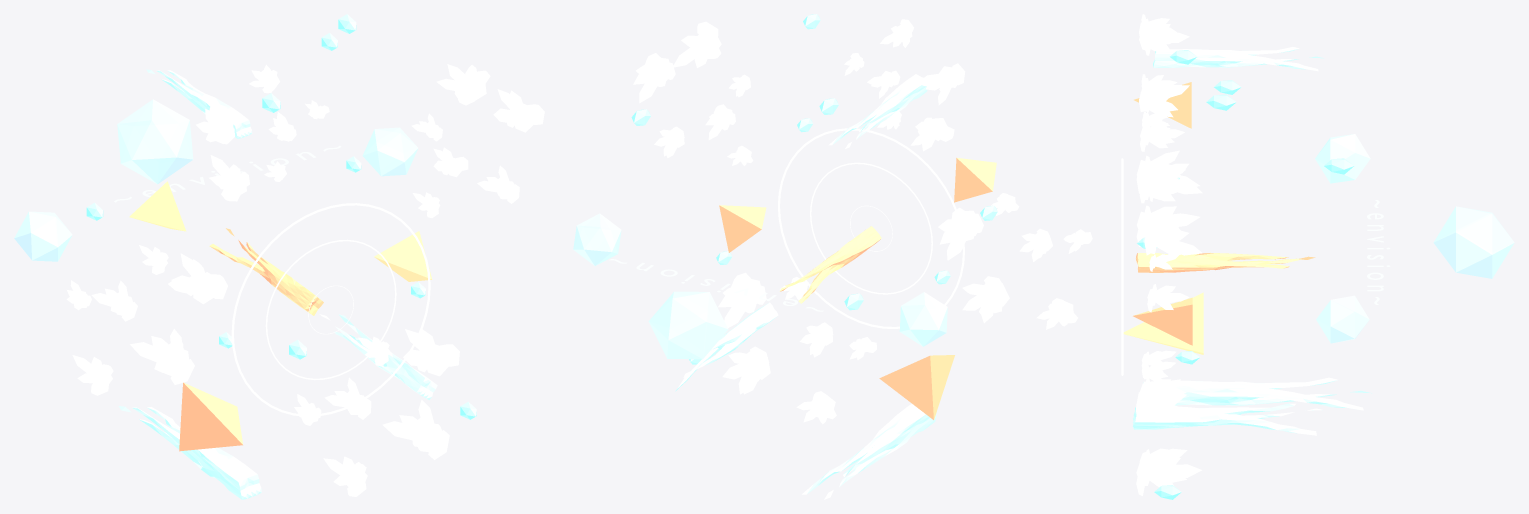
The model's file is asset.glb.
The picture shows the model from 3 angles, left to right: view 1: azimuth 30°, elevation 25°; view 2: azimuth 150°, elevation 25°; view 3: azimuth 270°, elevation 25°; orthographic projection. The views are drawn at different scales.
Parts seen in each view (by area): view 1: Icosphere.002, Icosphere.001, Icosphere.004, Icosphere.009, Icosphere.013, Cone, Cube.003, Icosphere.015, Icosphere.014, Torus, Cube.005, Cube (+4 smaller); view 2: Icosphere.002, Icosphere.001, Icosphere.004, Icosphere.009, Icosphere.013, Cube.003, Cone, Icosphere.015, Icosphere.014, Cube, Cube.005, Cube.001 (+4 smaller); view 3: Icosphere.002, Icosphere.009, Icosphere.004, Cube.003, Icosphere.013, Icosphere.001, Cube, Cube.001, Cube.005, Icosphere.014, Icosphere.015, Cone (+4 smaller).
Part boxes in pixels (<box>): Icosphere.002: <box>294,329,459,496</box>; Icosphere.001: <box>66,245,227,395</box>; Icosphere.004: <box>411,64,544,217</box>; Icosphere.009: <box>117,99,193,184</box>; Icosphere.013: <box>196,64,329,201</box>; Cone: <box>179,382,242,451</box>; Cube.003: <box>118,406,261,499</box>; Icosphere.015: <box>14,211,72,261</box>; Icosphere.014: <box>362,127,418,176</box>; Torus: <box>231,203,430,416</box>; Cube.005: <box>209,228,323,315</box>; Cube: <box>319,314,437,399</box>; Icosphere.002: <box>718,272,876,424</box>; Icosphere.001: <box>938,193,1092,329</box>; Icosphere.004: <box>633,21,753,165</box>; Icosphere.009: <box>648,291,728,359</box>; Icosphere.013: <box>844,19,965,151</box>; Cube.003: <box>802,404,936,499</box>; Cone: <box>879,355,954,419</box>; Icosphere.015: <box>899,292,947,346</box>; Icosphere.014: <box>573,213,621,265</box>; Cube: <box>675,302,778,391</box>; Cube.005: <box>779,226,881,303</box>; Cube.001: <box>828,74,927,148</box>; Icosphere.002: <box>1136,350,1201,495</box>; Icosphere.009: <box>1433,206,1514,278</box>; Icosphere.004: <box>1144,160,1202,312</box>; Cube.003: <box>1143,377,1371,410</box>; Icosphere.013: <box>1139,14,1189,128</box>; Icosphere.001: <box>1136,109,1199,246</box>; Cube: <box>1132,403,1322,435</box>; Cube.001: <box>1153,47,1323,71</box>; Cube.005: <box>1136,252,1315,272</box>; Icosphere.014: <box>1316,295,1369,343</box>; Icosphere.015: <box>1315,134,1370,183</box>; Cone: <box>1123,292,1203,354</box>.
Bounding box in the file's own units: 43.64 × 39.33 × 33.07.
